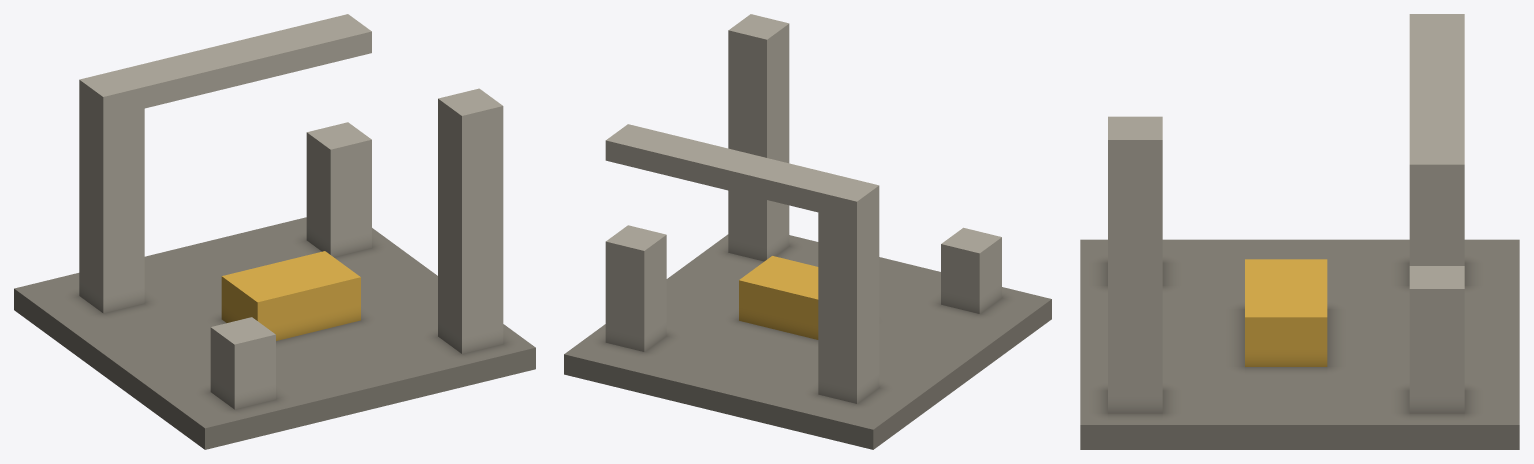
File: m_ruin.glb
3 renders of one model, left to right at view 1: azimuth 30°, elevation 25°; view 2: azimuth 150°, elevation 25°; view 3: azimuth 270°, elevation 25°, orthographic. The views are drawn at different scales.
Parts seen in each view (by area): view 1: m_ruin_body; view 2: m_ruin_body; view 3: m_ruin_body.
Part boxes in pixels (<box>): m_ruin_body: <box>14,14,535,449</box>; m_ruin_body: <box>564,14,1051,449</box>; m_ruin_body: <box>1080,14,1519,449</box>.
Bounding box in the file's own units: 1 × 0.75 × 1.
Materials: 1 (1 with a texture image).
